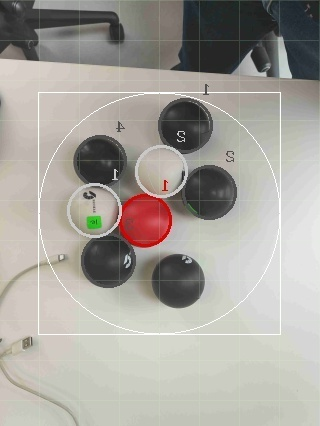Pelota blanca: (66, 182, 124, 238), (151, 252, 207, 310), (135, 142, 191, 198), (0, 393, 81, 425)
Pelota negra: (178, 0, 278, 75), (157, 95, 214, 155), (151, 252, 207, 310), (183, 164, 238, 222), (71, 134, 129, 187), (79, 236, 137, 288)
Pelota roja: (119, 193, 175, 248)
